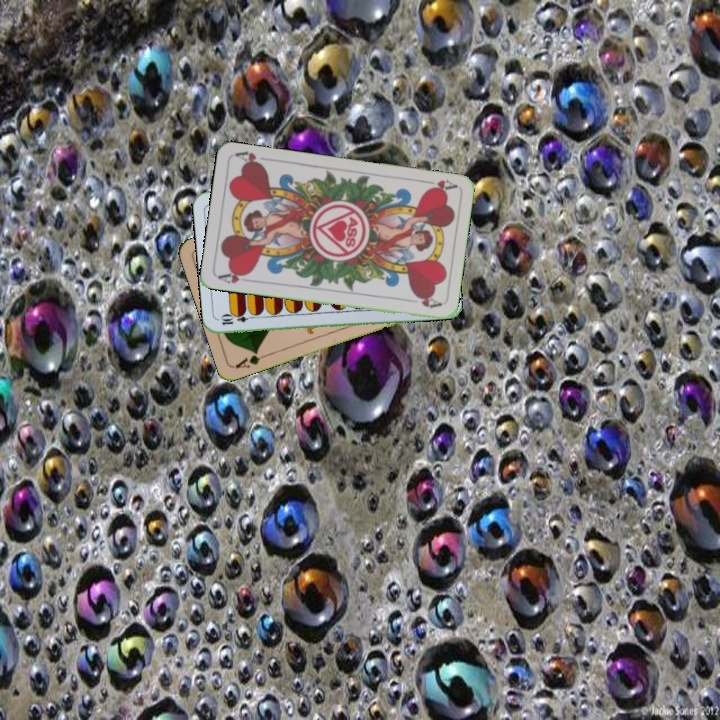E10: (217, 311, 258, 327)
GA: (231, 347, 271, 371)
HA: (214, 267, 255, 287), (418, 175, 459, 195)
